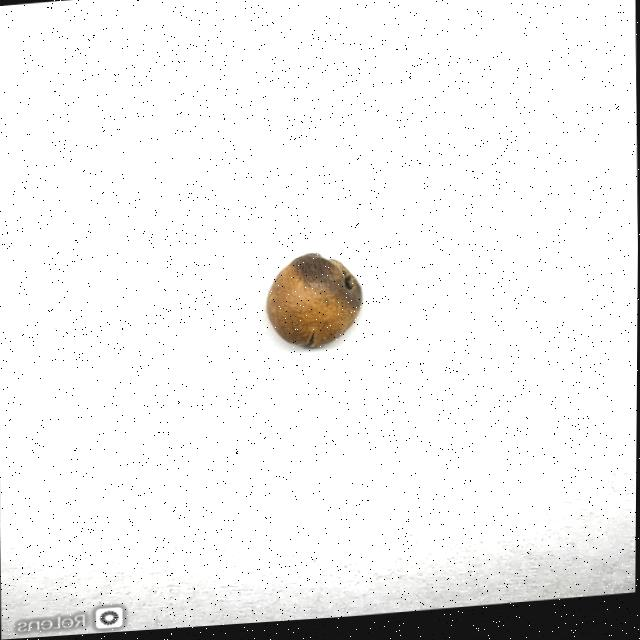Insect damage: (265, 252, 365, 355)
